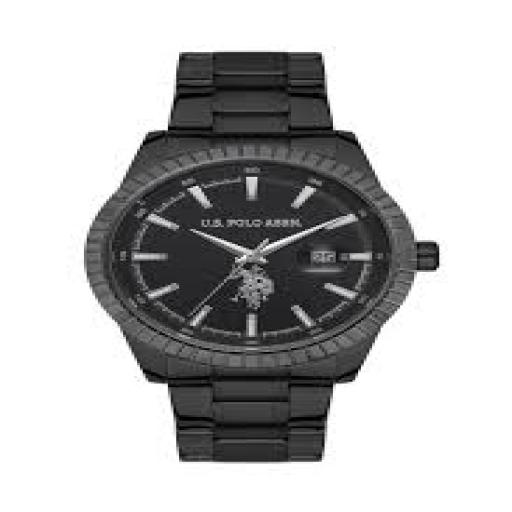KolSaati: (56, 26, 493, 478)
